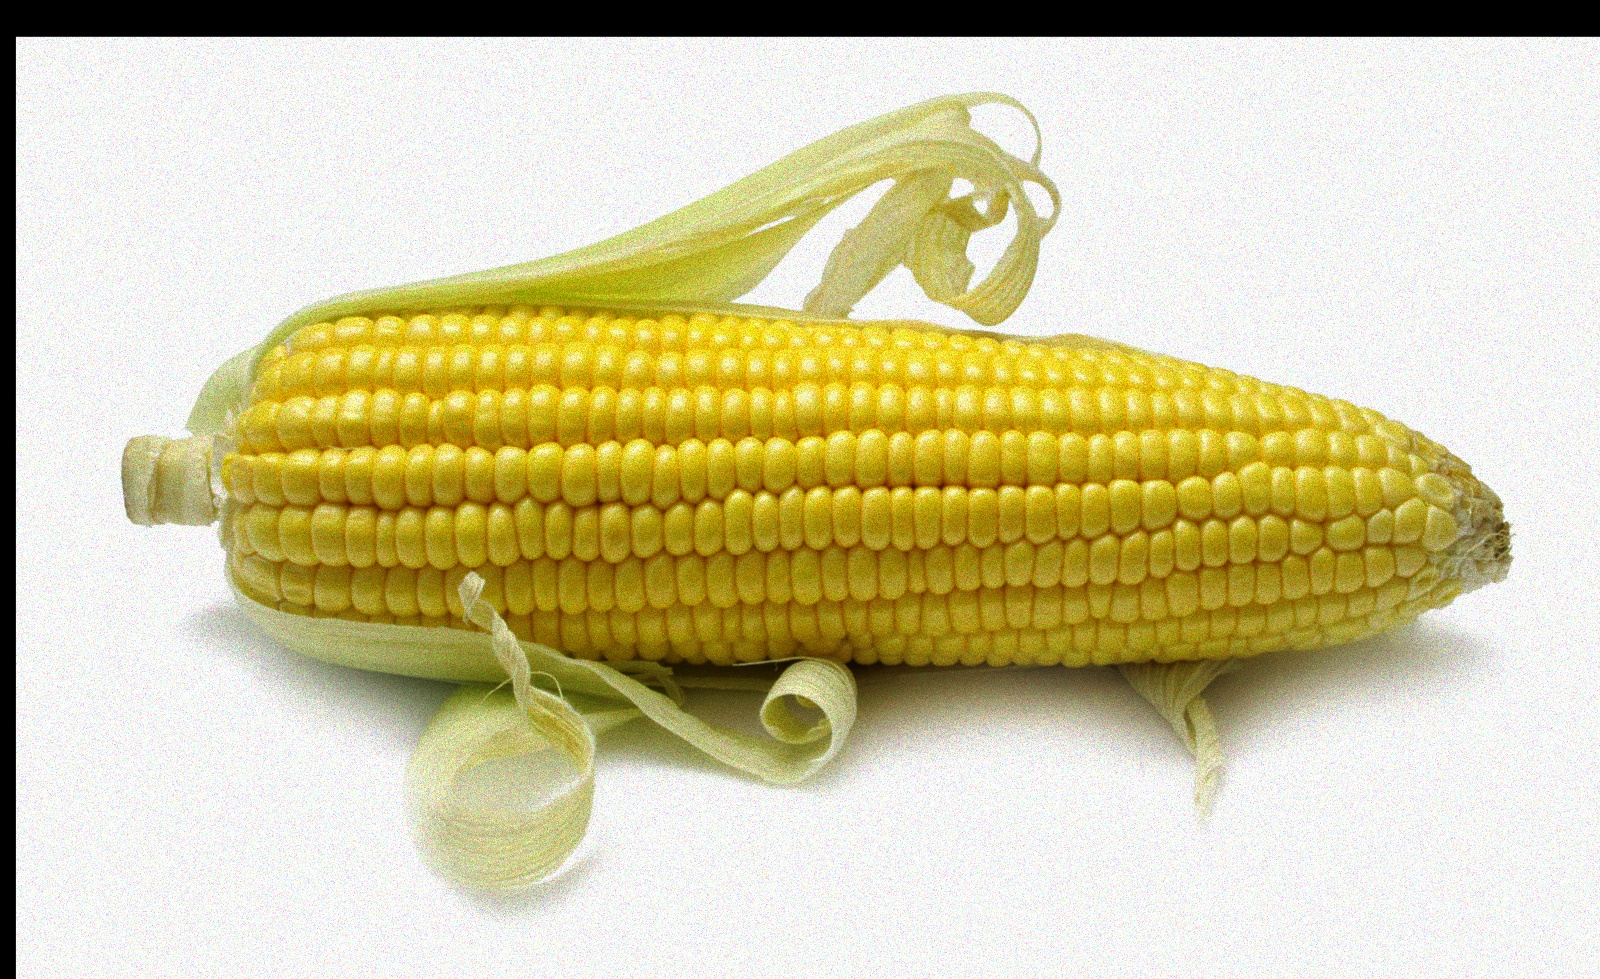corn: (118, 210, 1530, 713)
